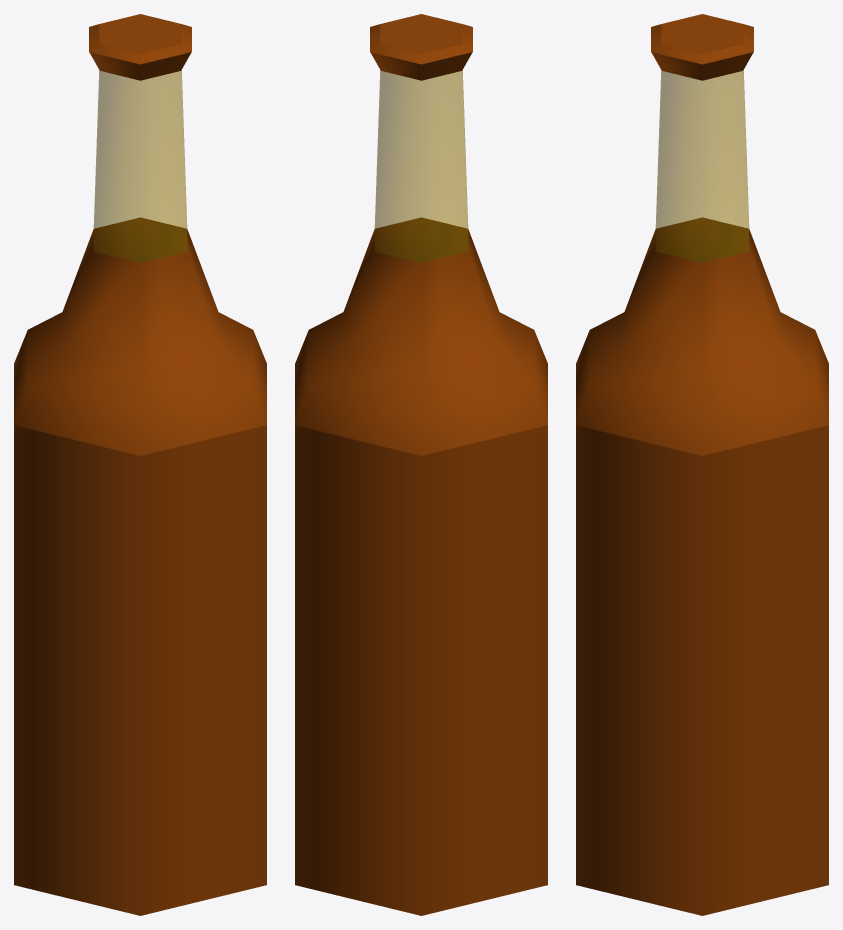
Rendered from Bottle_08.glb.
The picture shows the model from 3 angles, left to right: view 1: azimuth 30°, elevation 25°; view 2: azimuth 150°, elevation 25°; view 3: azimuth 270°, elevation 25°; orthographic projection.
Parts seen in each view (by area): view 1: Bottle08; view 2: Bottle08; view 3: Bottle08.
Boxes of the visible parts, x1,y1,x2,y2 form: Bottle08: (14, 14, 266, 915); Bottle08: (295, 14, 547, 915); Bottle08: (576, 14, 828, 915).
Size of the model in its own units: 0.0931 by 0.2885 by 0.0806.
2 materials, 2 textured.
